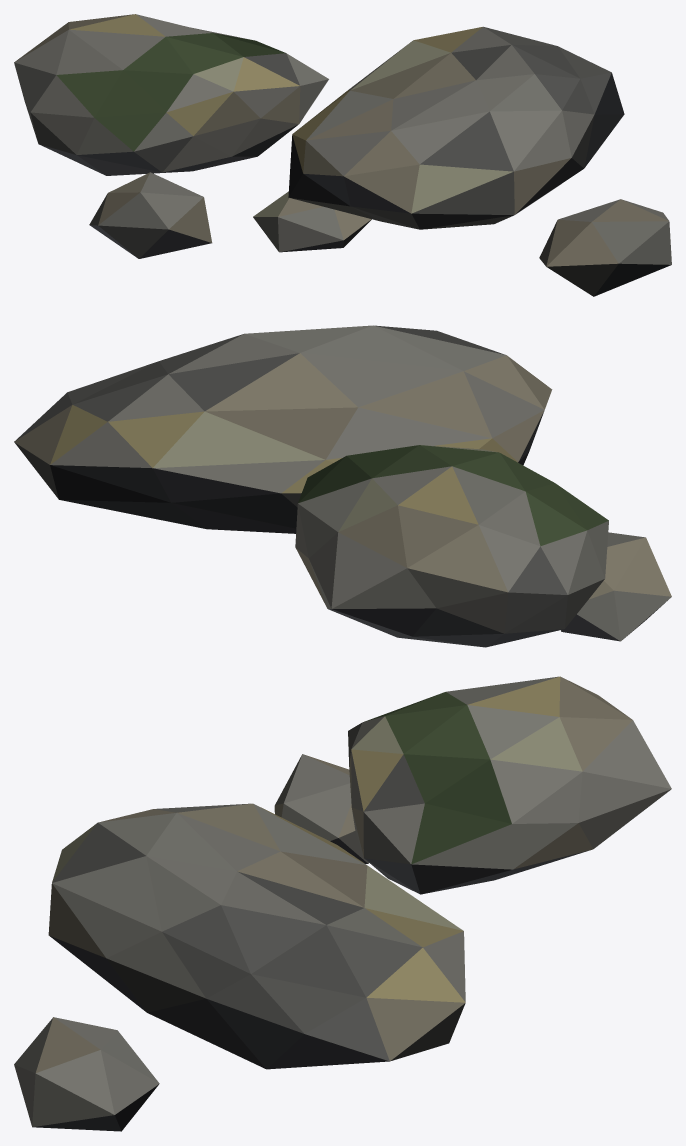
The model's file is bank-stones-3.glb.
3 views of the same model, one above another, from view 1: azimuth 30°, elevation 25°; view 2: azimuth 150°, elevation 25°; view 3: azimuth 270°, elevation 25° (orthographic). The views are drawn at different scales.
Visible parts, largest first — view 1: bank-stones; view 2: bank-stones; view 3: bank-stones.
Boxes of the visible parts, <box> form: bank-stones: <box>14,14,671,296</box>; bank-stones: <box>14,325,671,647</box>; bank-stones: <box>14,676,671,1131</box>.
Size of the model in its own units: 1.72 by 0.6274 by 1.54.
